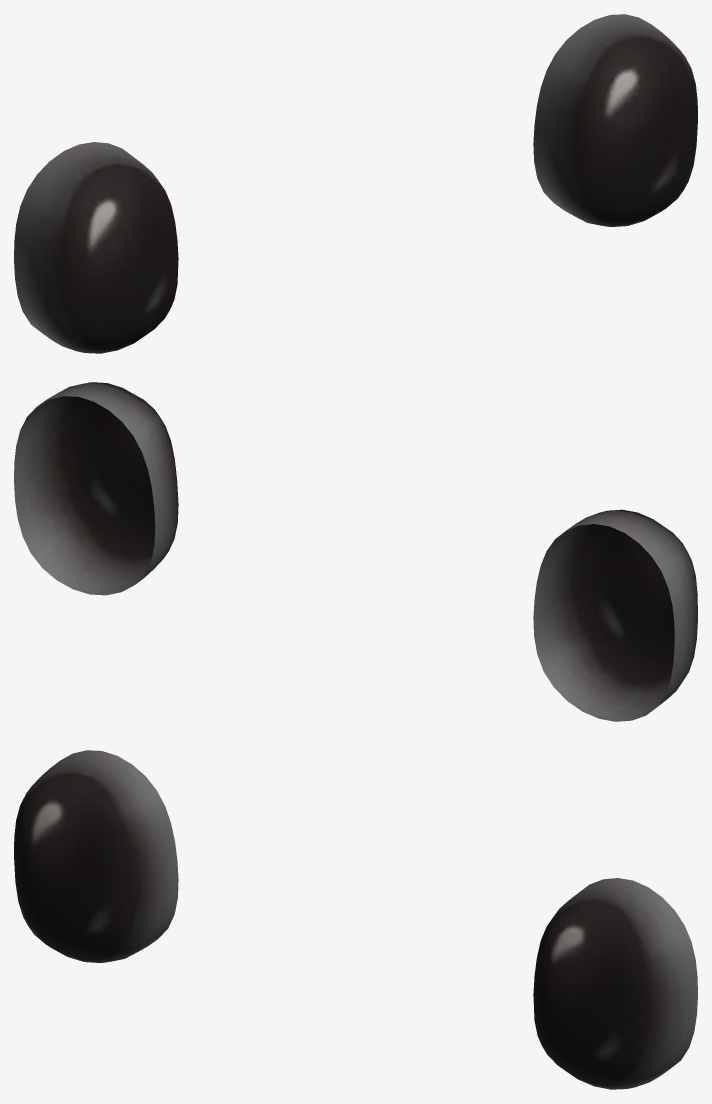
Rendered from eye1.glb.
3 renders of one model, top to bottom at view 1: azimuth 30°, elevation 25°; view 2: azimuth 150°, elevation 25°; view 3: azimuth 330°, elevation 25°, orthographic.
Visible parts, largest first — view 1: eyes.000; view 2: eyes.000; view 3: eyes.000.
Boxes of the visible parts, left/top/right/bottom form: eyes.000: left=14, top=14, right=697, bottom=353; eyes.000: left=14, top=382, right=697, bottom=721; eyes.000: left=14, top=750, right=697, bottom=1089.
Size of the model in its own units: 0.6216 by 0.1752 by 0.0676.
Materials: 1 (1 with a texture image).
